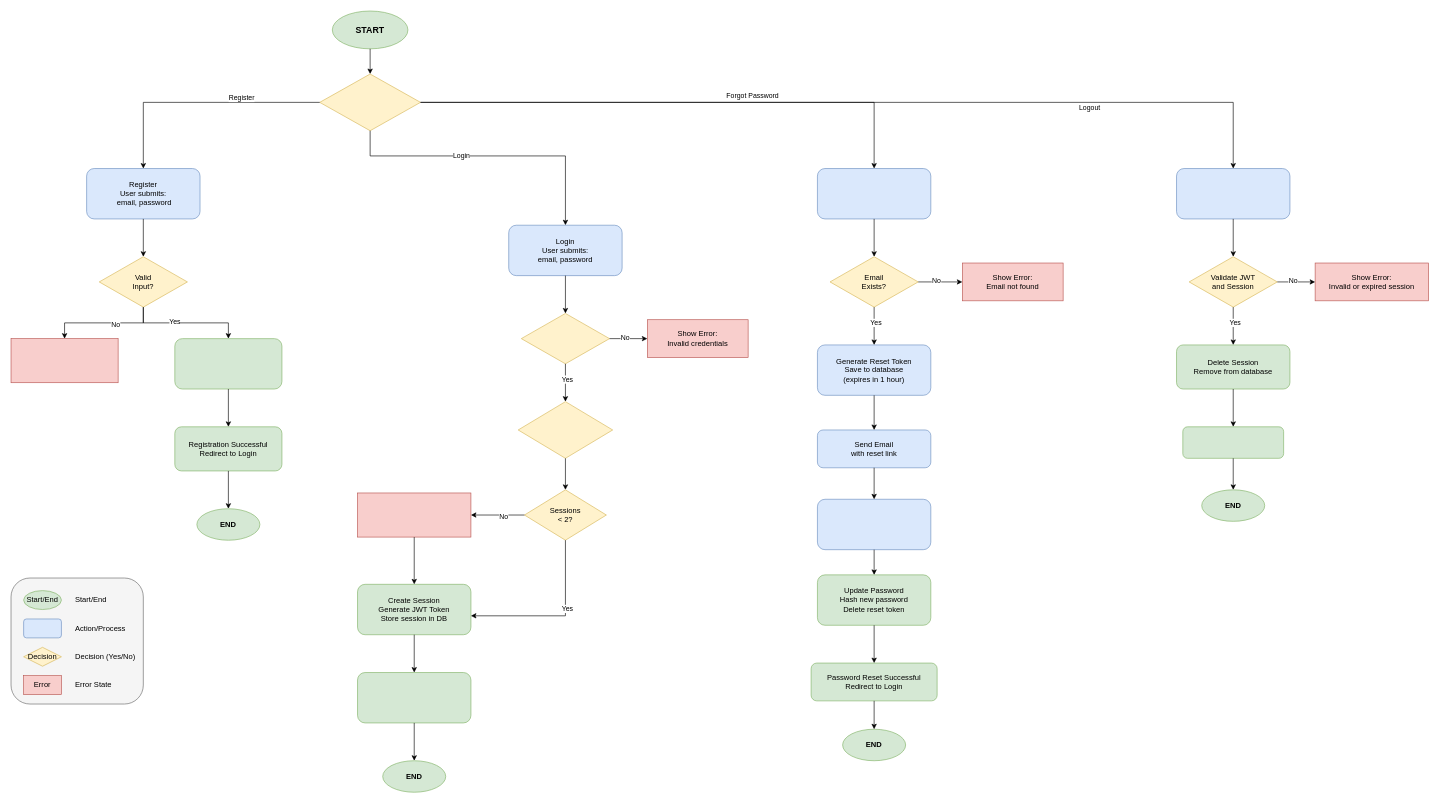
This 1440x803 diagram has some shape labels left out. Here are the shapes that lost their labels. From the top down, the box of each, then its label:
(319, 73, 421, 131): Choose Action
(817, 168, 931, 219): Forgot Password User submits: email
(1176, 168, 1290, 219): Logout User sends JWT token
(521, 313, 610, 364): Valid Credentials?
(10, 338, 118, 383): Show Error: Invalid input or email already exists
(174, 338, 282, 389): Create User Hash password Save to database
(518, 401, 613, 458): Check Active Sessions (max 2 allowed)
(1182, 426, 1284, 458): Logout Successful
(357, 492, 471, 537): Remove oldest session & Allow new login
(817, 499, 931, 550): Reset Password Page User clicks link Submits new password
(23, 618, 61, 638): Process
(357, 672, 471, 723): Login Successful Return JWT Token to Client
